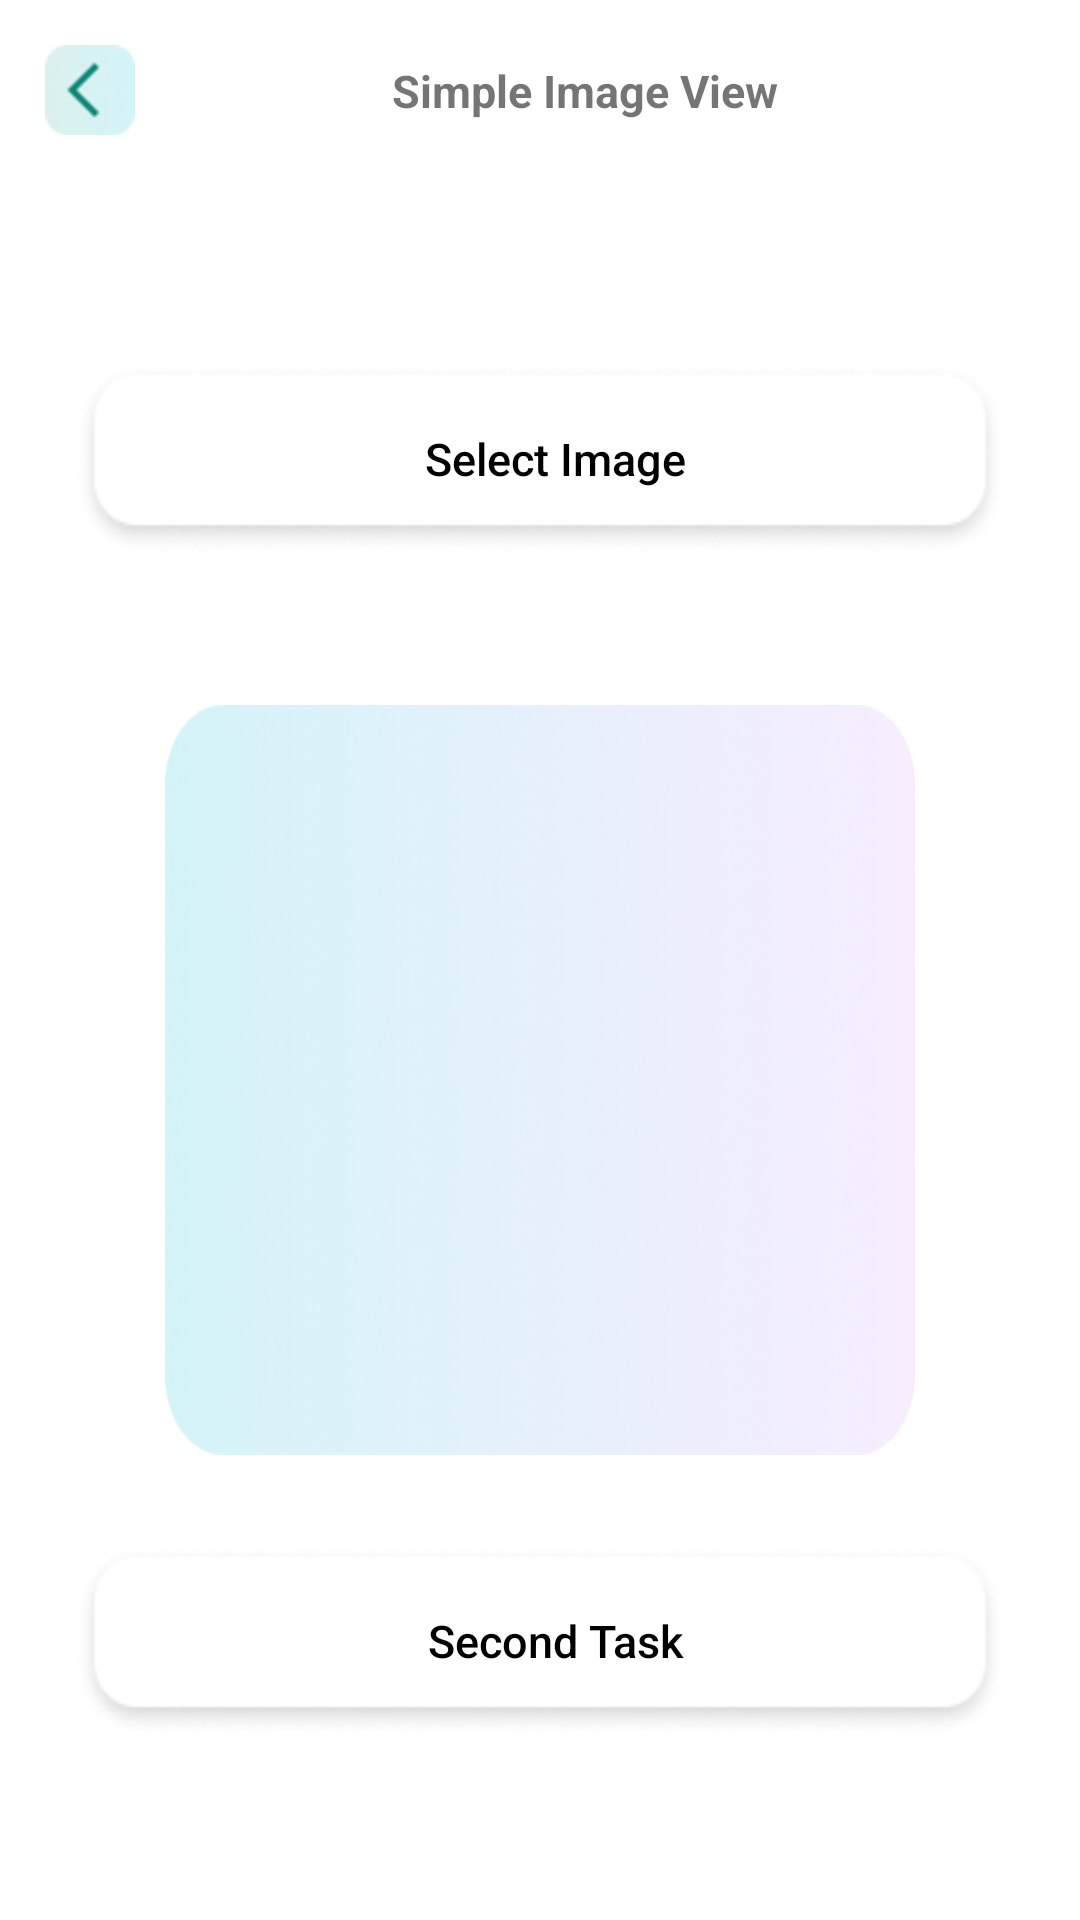

Where to tap for icons on this 1080px×1920px app screen, as point (x, y):
back: point (90, 90)
